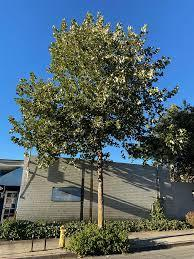tree: (11, 13, 174, 237)
